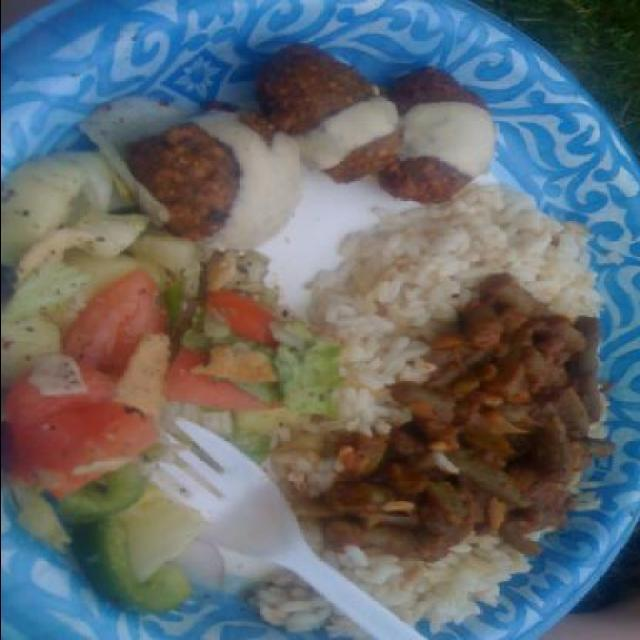Salad: (1, 144, 347, 616)
